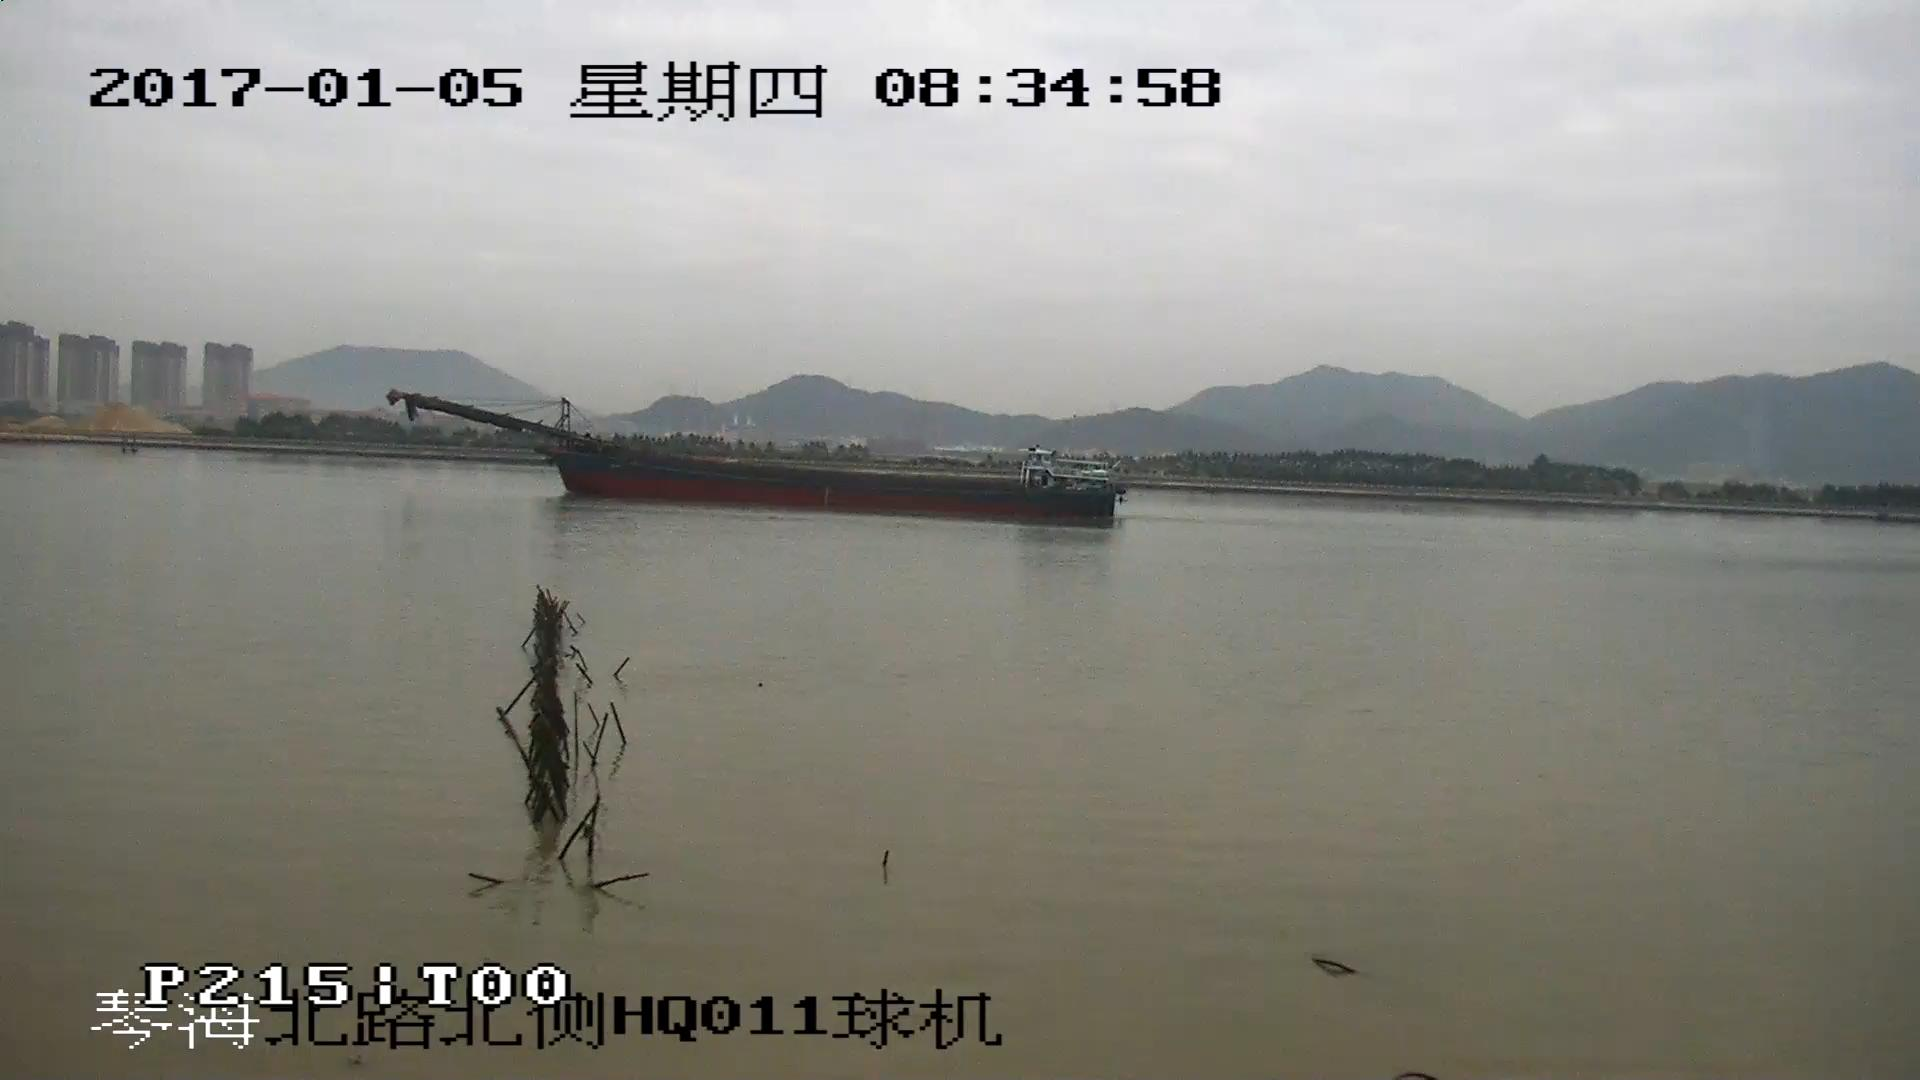bulk cargo carrier: (388, 394, 1118, 524)
